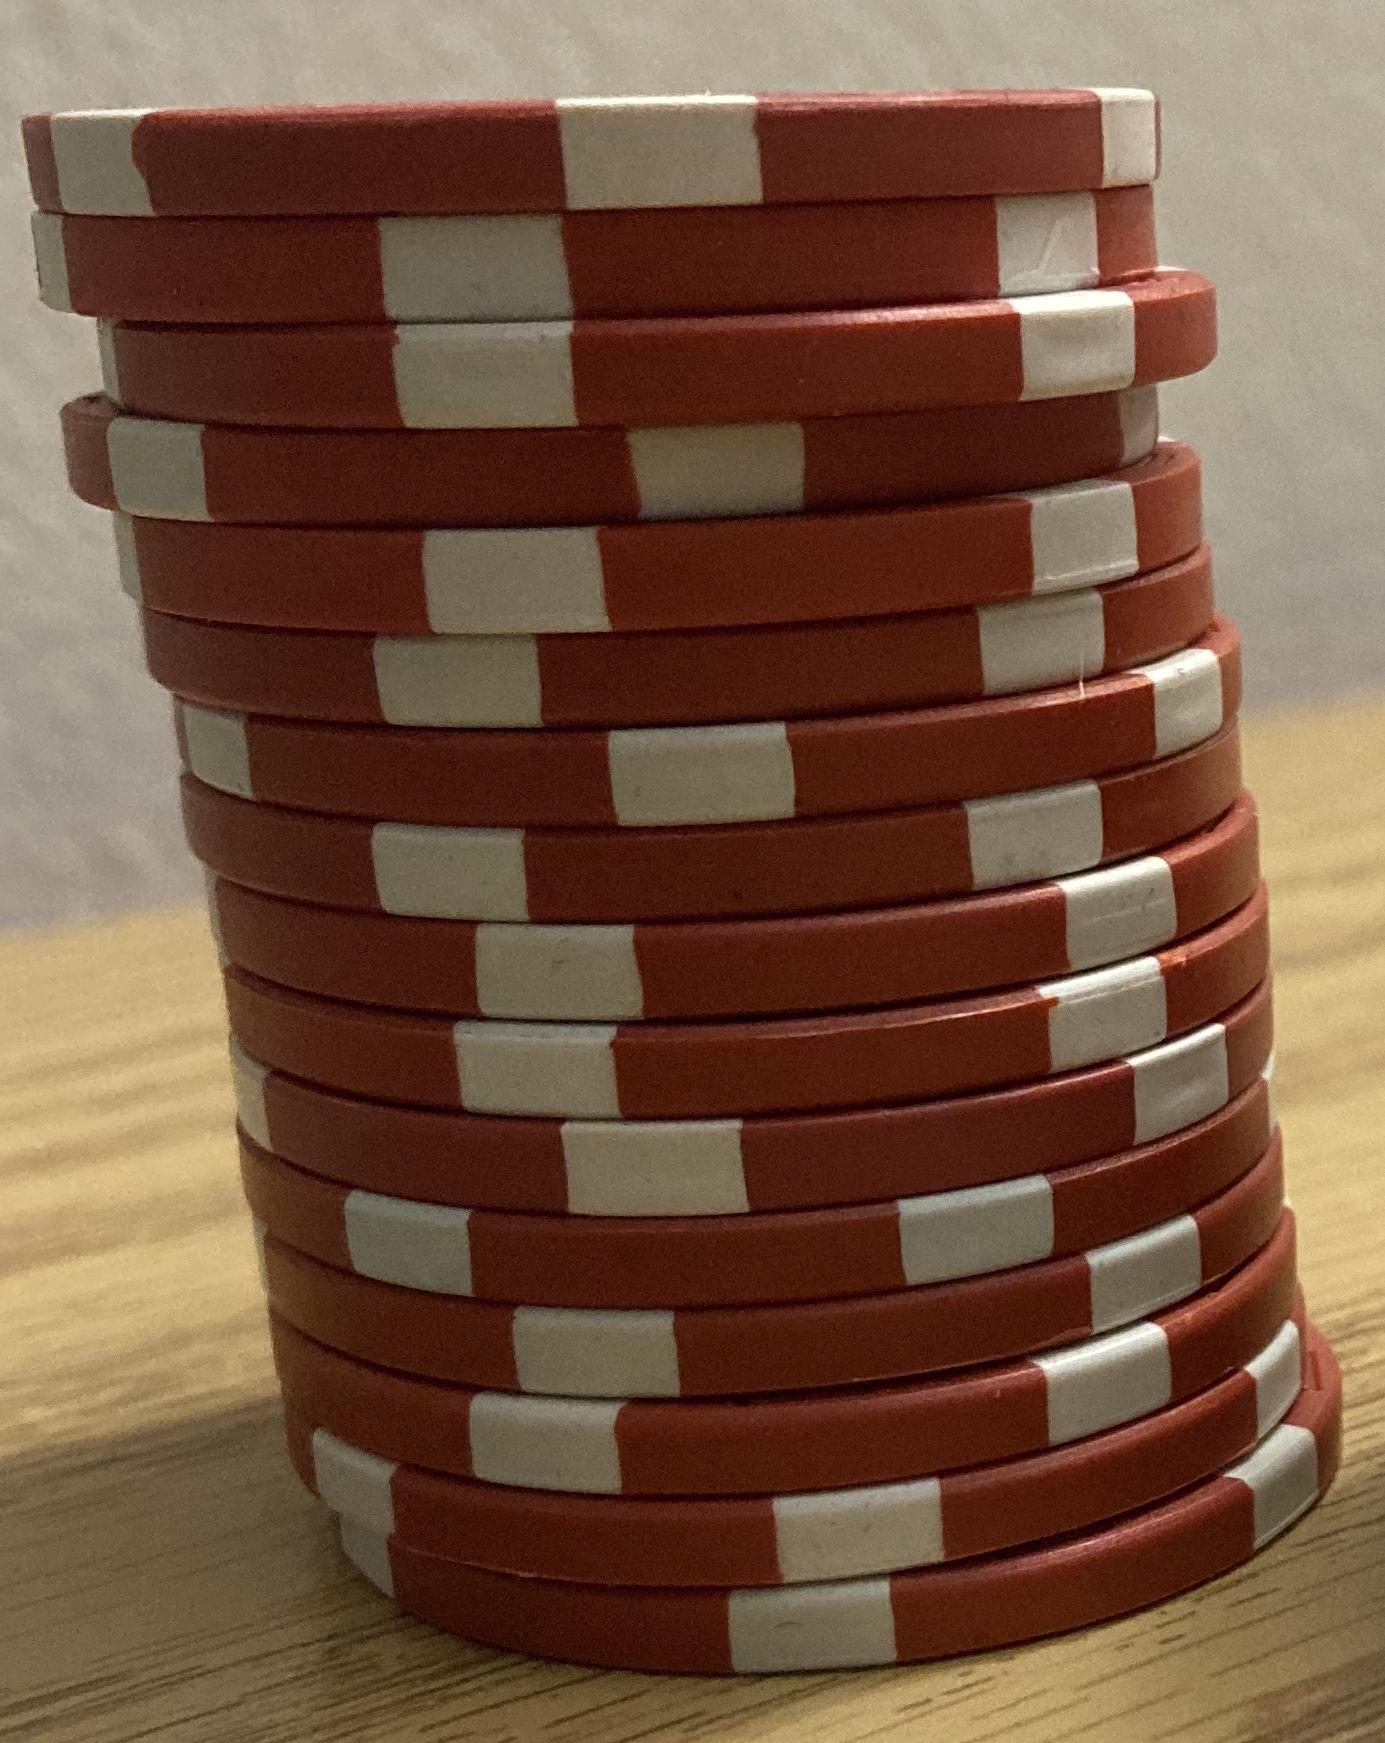Chip: (1, 1, 1385, 1743)
